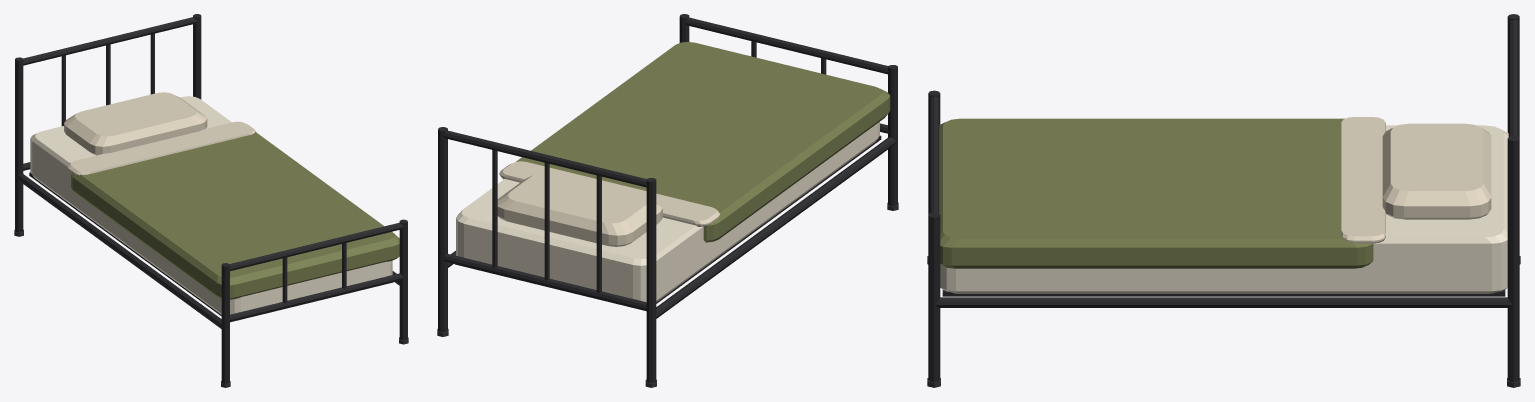
The model's file is FN_Bed_Single.glb.
3 renders of one model, left to right at view 1: azimuth 30°, elevation 25°; view 2: azimuth 150°, elevation 25°; view 3: azimuth 270°, elevation 25°, orthographic. The views are drawn at different scales.
Visible parts, largest first — view 1: FN_Bed_Single; view 2: FN_Bed_Single; view 3: FN_Bed_Single.
Boxes of the visible parts, x1,y1,x2,y2 form: FN_Bed_Single: (14,14,408,387); FN_Bed_Single: (437,14,898,387); FN_Bed_Single: (927,14,1520,387).
Bounding box in the file's own units: 1.01 × 0.9 × 1.97.
1 material, 1 textured.
